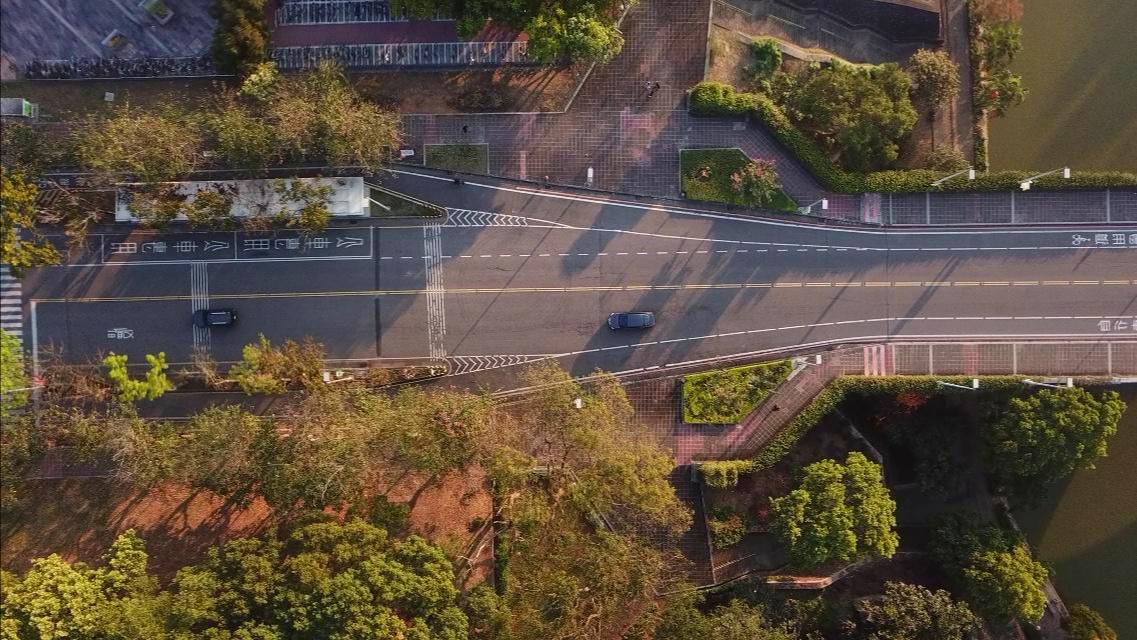vehicle: (607, 311, 654, 331), (192, 310, 237, 328)
